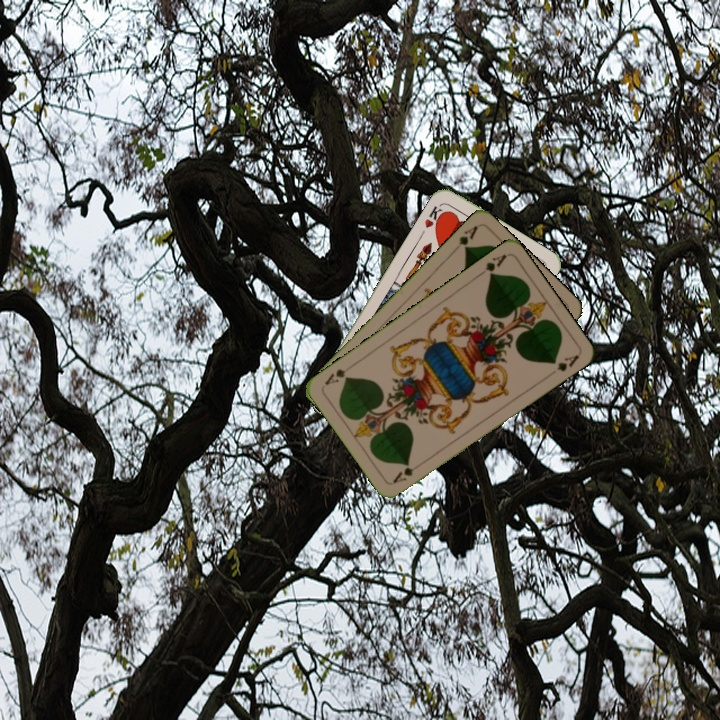GA: (474, 250, 509, 280), (389, 460, 425, 486), (454, 221, 481, 253)
HK: (420, 200, 448, 231)
